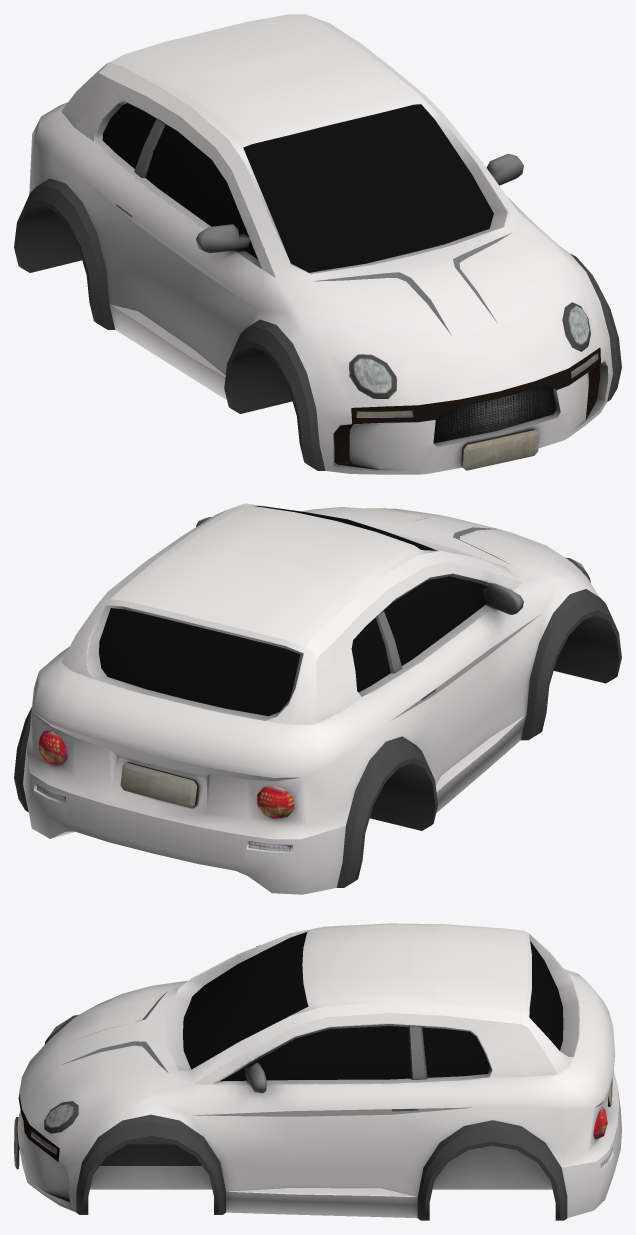
Rendered from sedanCar.fbx.
The picture shows the model from 3 angles, top to bottom: view 1: azimuth 30°, elevation 25°; view 2: azimuth 150°, elevation 25°; view 3: azimuth 270°, elevation 25°; orthographic projection. The views are drawn at different scales.
Visible parts, largest first — view 1: body, others; view 2: body, others; view 3: body, others.
Boxes of the visible parts, x1,y1,x2,y2 form: body: (29, 14, 612, 474); others: (14, 103, 621, 470); body: (23, 503, 599, 894); others: (14, 505, 621, 887); body: (15, 923, 621, 1218); others: (14, 931, 612, 1220).
Bounding box in the file's own units: 263 × 166 × 463.
